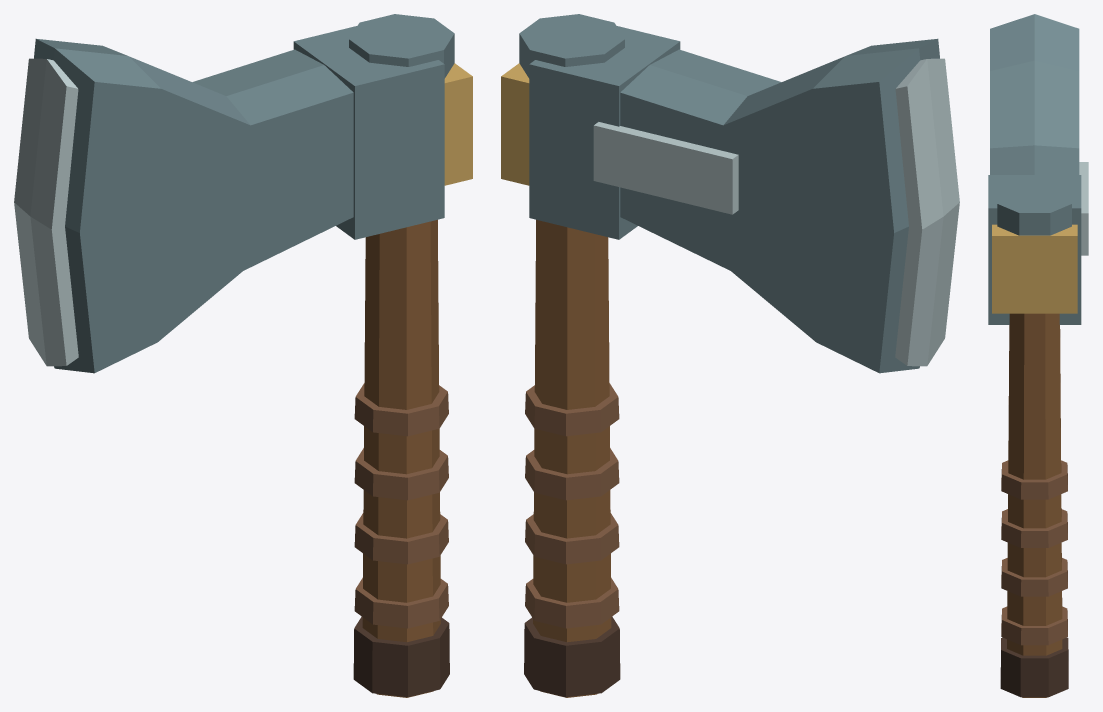
Rendered from hand_axe.obj.
3 renders of one model, left to right at view 1: azimuth 30°, elevation 25°; view 2: azimuth 150°, elevation 25°; view 3: azimuth 270°, elevation 25°, orthographic. The views are drawn at different scales.
Visible parts, largest first — view 1: OutpostHandAxe; view 2: OutpostHandAxe; view 3: OutpostHandAxe.
Boxes of the visible parts, left/top/right/bottom form: OutpostHandAxe: left=14, top=14, right=472, bottom=697; OutpostHandAxe: left=501, top=14, right=959, bottom=697; OutpostHandAxe: left=988, top=14, right=1088, bottom=697.
Size of the model in its own units: 1.02 by 1.68 by 0.281.
